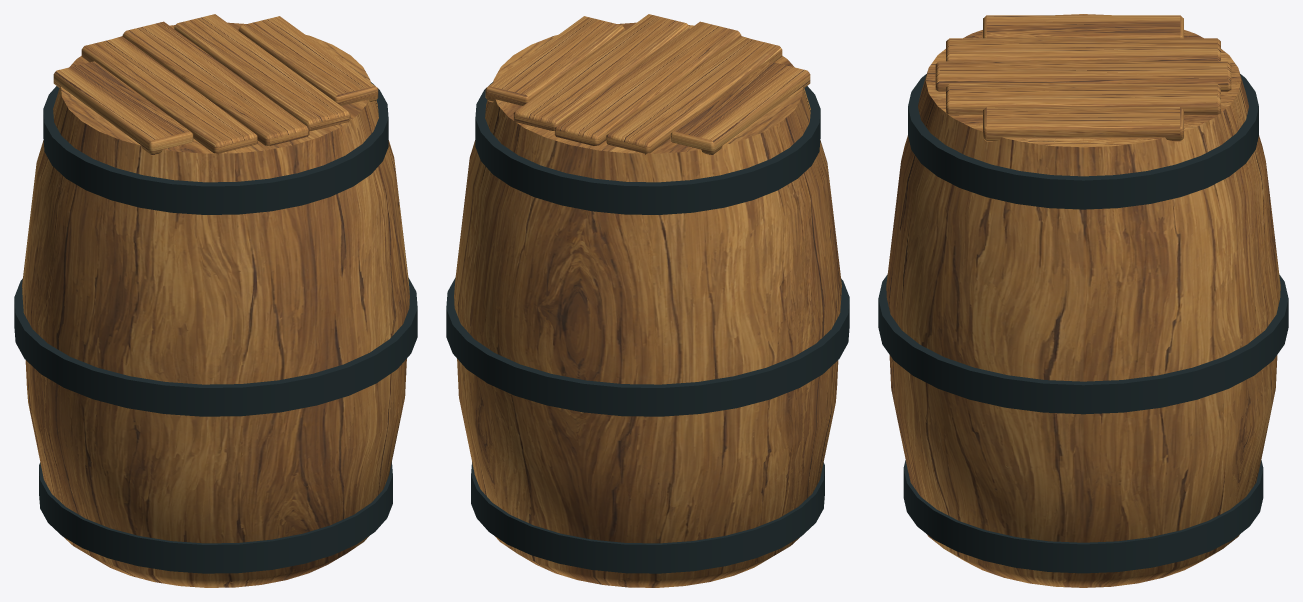
Rendered from 16_Barril_Cerrado.obj.
3 renders of one model, left to right at view 1: azimuth 30°, elevation 25°; view 2: azimuth 150°, elevation 25°; view 3: azimuth 270°, elevation 25°, orthographic.
Parts seen in each view (by area): view 1: 16_Barril_Cerrado_Wood, 16_Barril_Cerrado_Iron; view 2: 16_Barril_Cerrado_Wood, 16_Barril_Cerrado_Iron; view 3: 16_Barril_Cerrado_Wood, 16_Barril_Cerrado_Iron.
Boxes of the visible parts, bbox=[...] form: 16_Barril_Cerrado_Wood: bbox=[22, 14, 409, 587]; 16_Barril_Cerrado_Iron: bbox=[14, 82, 417, 573]; 16_Barril_Cerrado_Wood: bbox=[454, 14, 841, 587]; 16_Barril_Cerrado_Iron: bbox=[446, 82, 849, 573]; 16_Barril_Cerrado_Wood: bbox=[886, 14, 1280, 587]; 16_Barril_Cerrado_Iron: bbox=[878, 74, 1288, 573].
Size of the model in its own units: 0.832 by 1.02 by 0.832.
2 materials, 1 textured.
